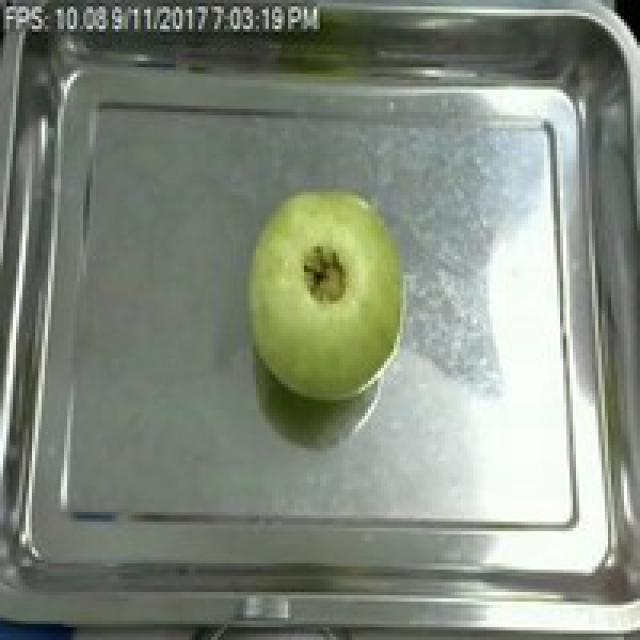Fruit: (237, 176, 416, 406)
